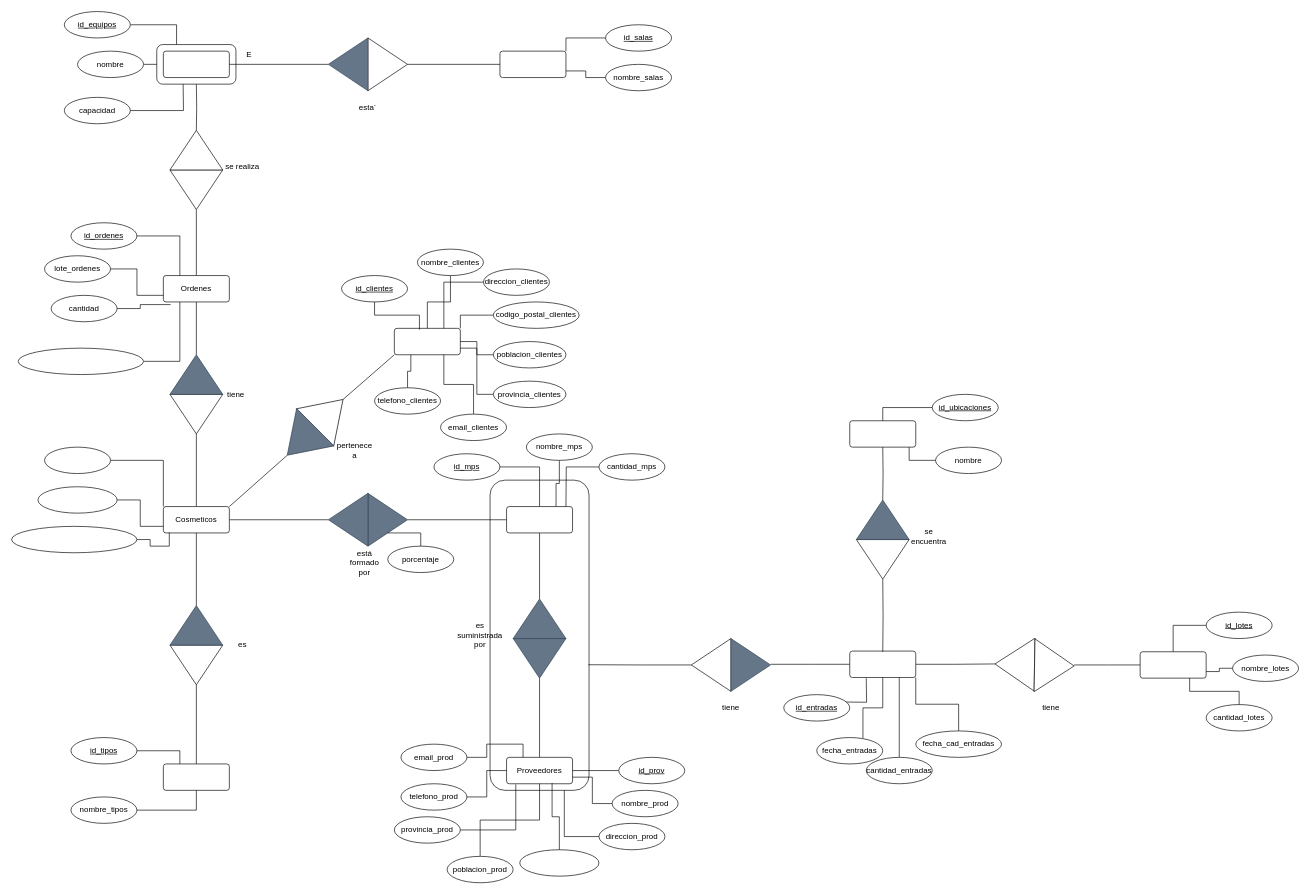
The diagram is 1310 pixels wide and 894 high, and some of its shapes have lost their labels. Here are the shapes that lost their labels. From the top down, the box of each, then its label:
(163, 50, 229, 78): Equipos
(499, 50, 566, 78): Salas
(17, 347, 144, 375): fecha_cadudcidad_ordenes
(394, 328, 460, 355): Clientes
(849, 420, 916, 447): Ubicaciones
(44, 446, 111, 474): id_cosmeticos
(37, 486, 117, 513): nombre_cosmeticos
(506, 506, 573, 533): Materias primas
(11, 526, 137, 553): fecha_caduciddad_cosmeticos
(849, 650, 916, 677): Entradas
(1139, 651, 1206, 678): lotes
(163, 763, 229, 790): Tipos
(519, 849, 599, 876): codigo_postal_prod
